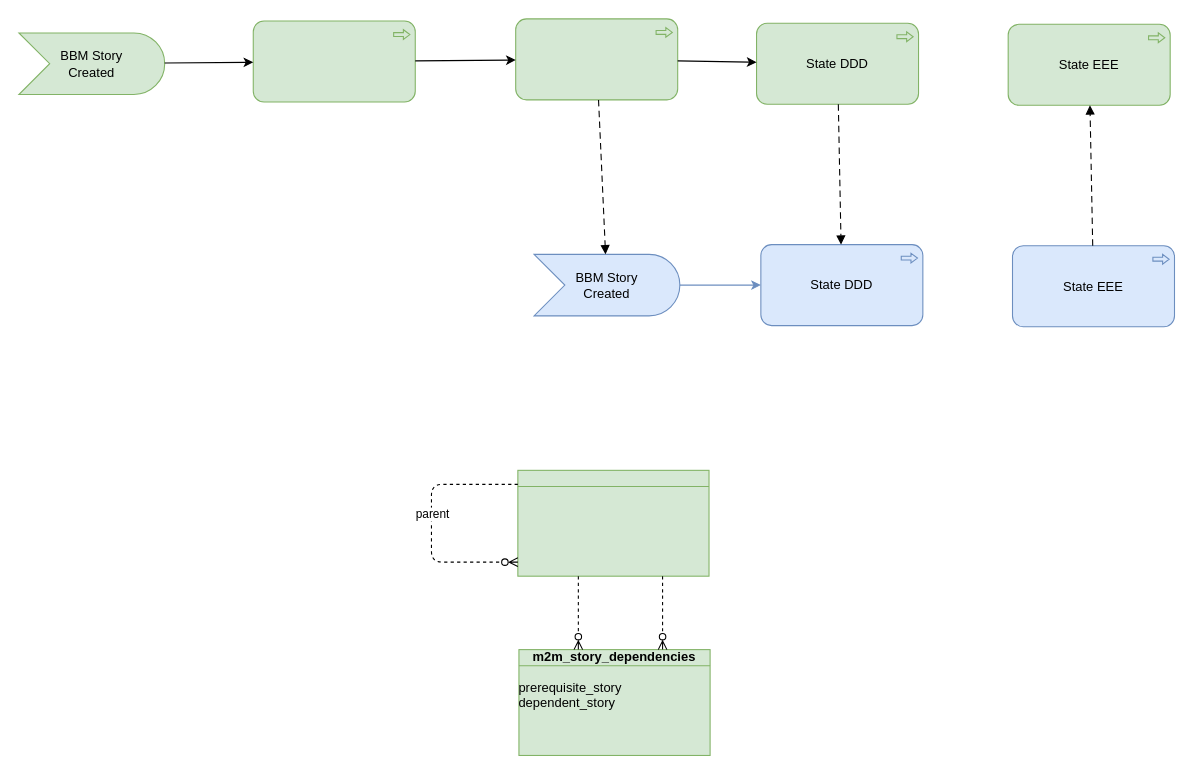
The diagram is 1193 pixels wide and 774 high, and some of its shapes have lost their labels. Here are the shapes that lost their labels. From the top down, the centre of each, then its label:
At (x=333, y=61): "State ABC".
At (x=596, y=59): "initiate GS Story".
At (x=613, y=522): "rm_story top_task parent split_from".
